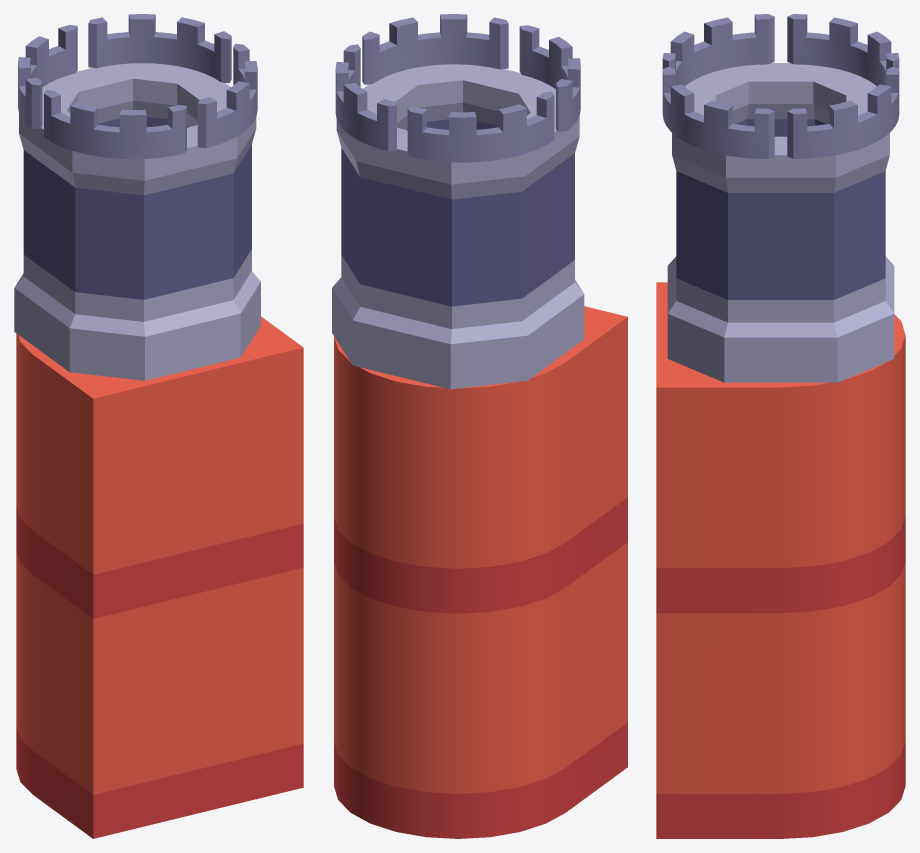
The model's file is CastleTowerBaseSecond.fbx.
3 views of the same model, side by side, from view 1: azimuth 30°, elevation 25°; view 2: azimuth 150°, elevation 25°; view 3: azimuth 270°, elevation 25° (orthographic). The views are drawn at different scales.
Visible parts, largest first — view 1: mergedBlocks; view 2: mergedBlocks; view 3: mergedBlocks.
Part boxes in pixels (bbox=[...]): mergedBlocks: bbox=[14, 14, 303, 838]; mergedBlocks: bbox=[332, 14, 627, 838]; mergedBlocks: bbox=[656, 14, 905, 838].
Size of the model in its own units: 10 by 32 by 10.
